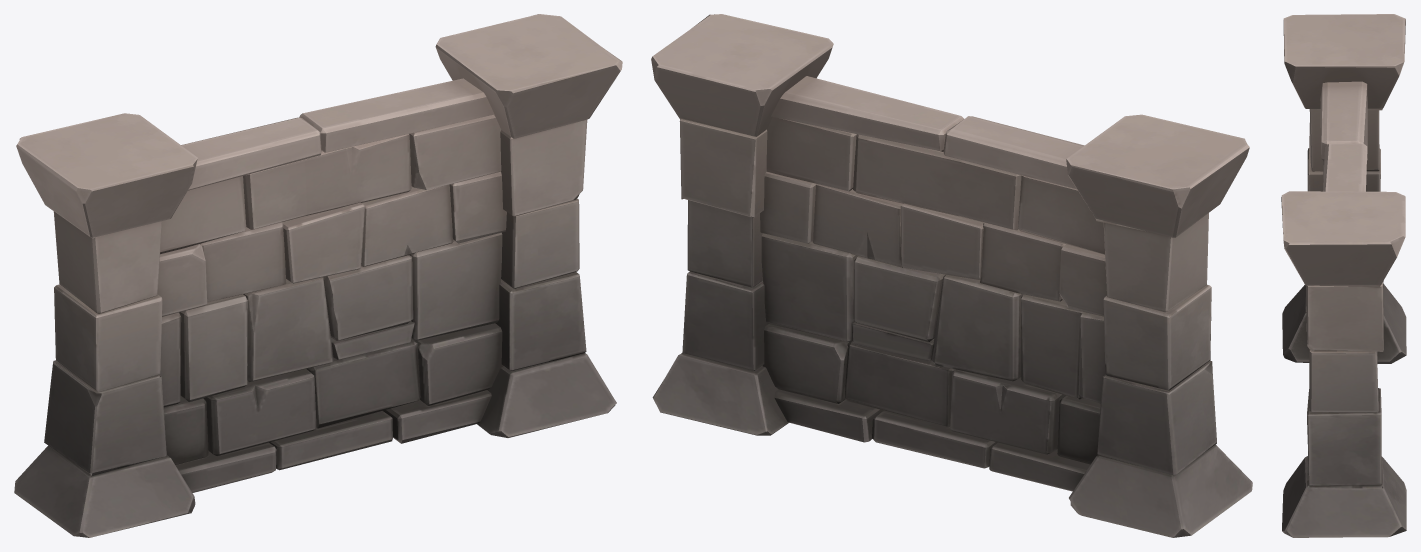
File: stylized_stone_wall.glb
3 renders of one model, left to right at view 1: azimuth 30°, elevation 25°; view 2: azimuth 150°, elevation 25°; view 3: azimuth 270°, elevation 25°, orthographic. The views are drawn at different scales.
Parts seen in each view (by area): view 1: Cube.003; view 2: Cube.003; view 3: Cube.003.
Part boxes in pixels (<box>): Cube.003: <box>14,14,622,537</box>; Cube.003: <box>651,14,1252,537</box>; Cube.003: <box>1281,14,1406,537</box>.
Bounding box in the file's own units: 3.35 × 2.05 × 0.778.
Materials: 1 (1 with a texture image).
